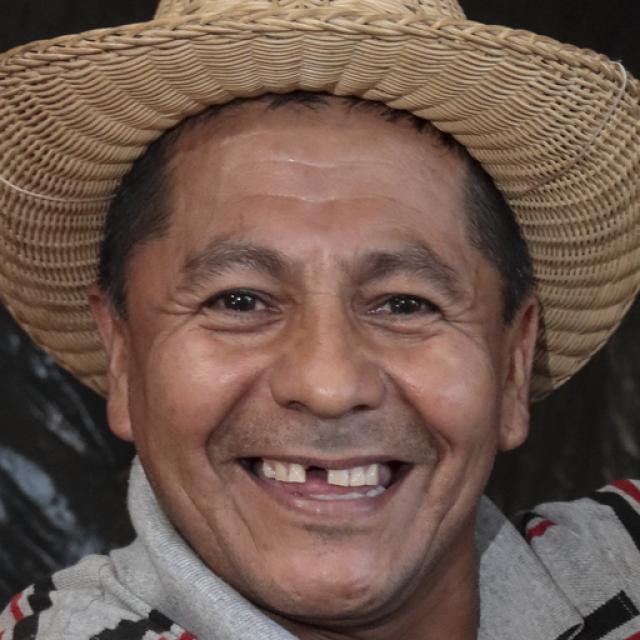Wrinkle: (242, 188, 420, 214), (233, 152, 414, 175)
